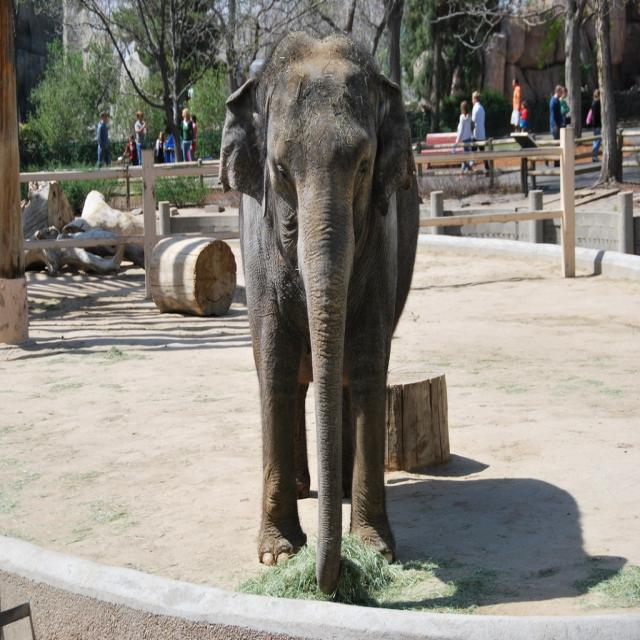elephant: (223, 40, 427, 610)
